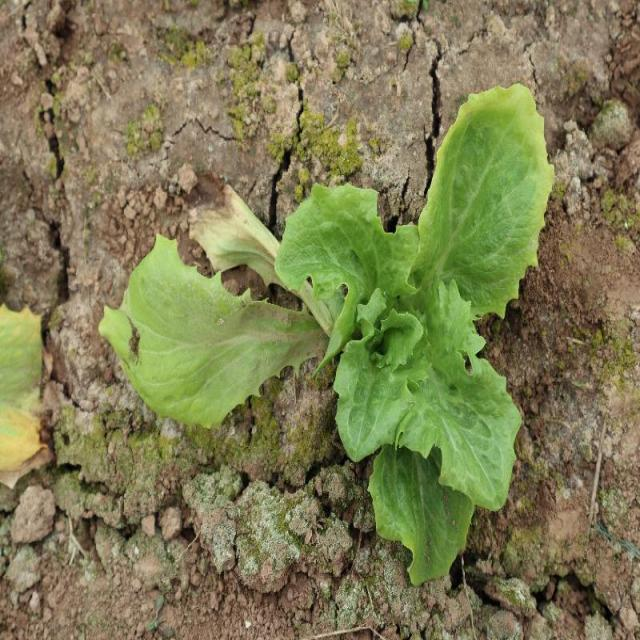crop: (274, 84, 553, 586)
